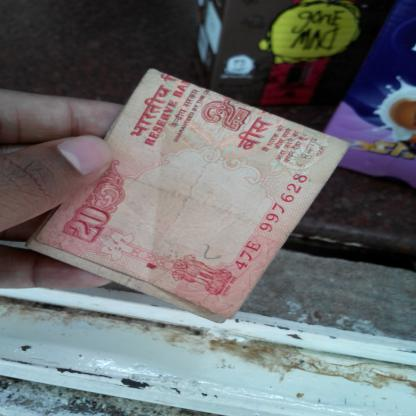Old20Front: (57, 77, 327, 301)
